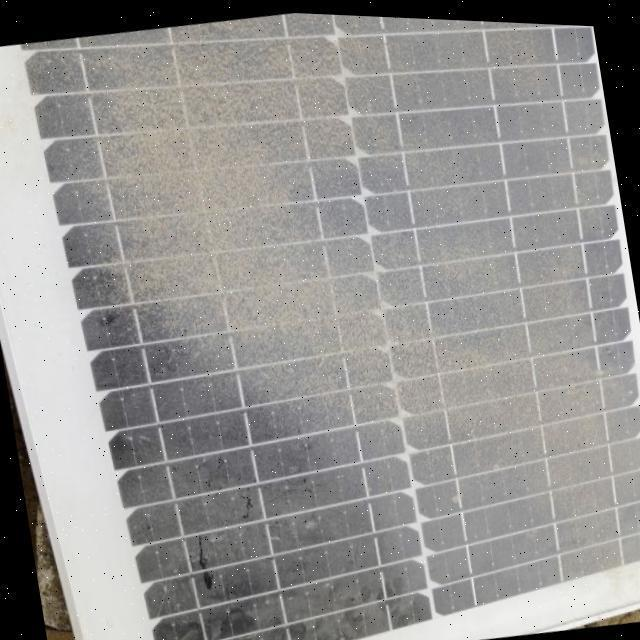Anomaly Solar Panel: (0, 0, 640, 640)
Surface Contaminant: (11, 10, 640, 640)
